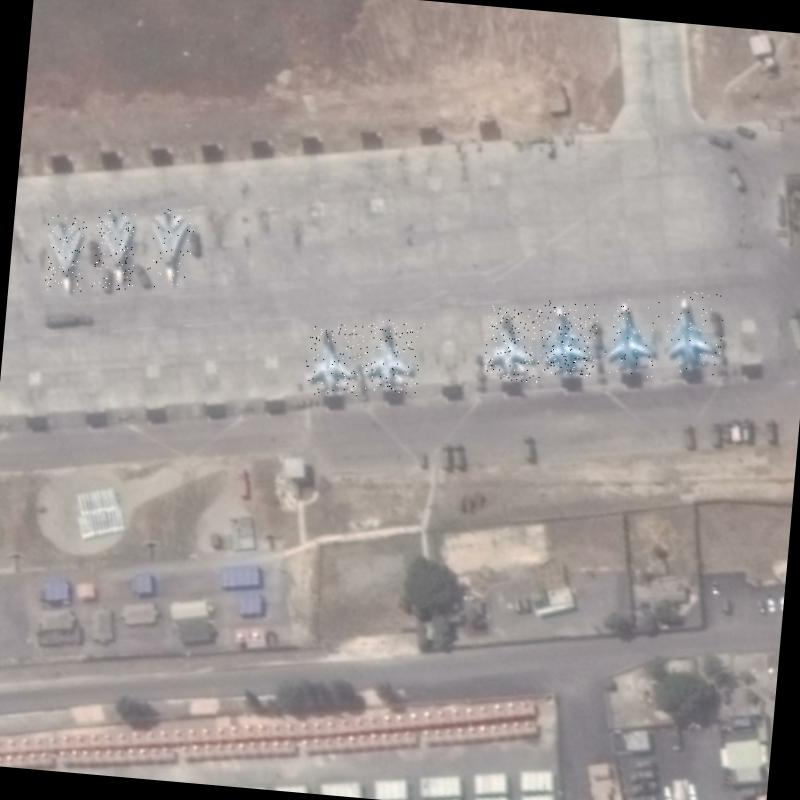A1: (359, 318, 426, 394), (481, 305, 546, 383), (303, 322, 364, 399)
A19: (662, 290, 726, 376), (603, 297, 663, 379), (539, 300, 599, 378)
A20: (145, 204, 196, 290), (92, 209, 140, 291), (42, 214, 88, 297)
